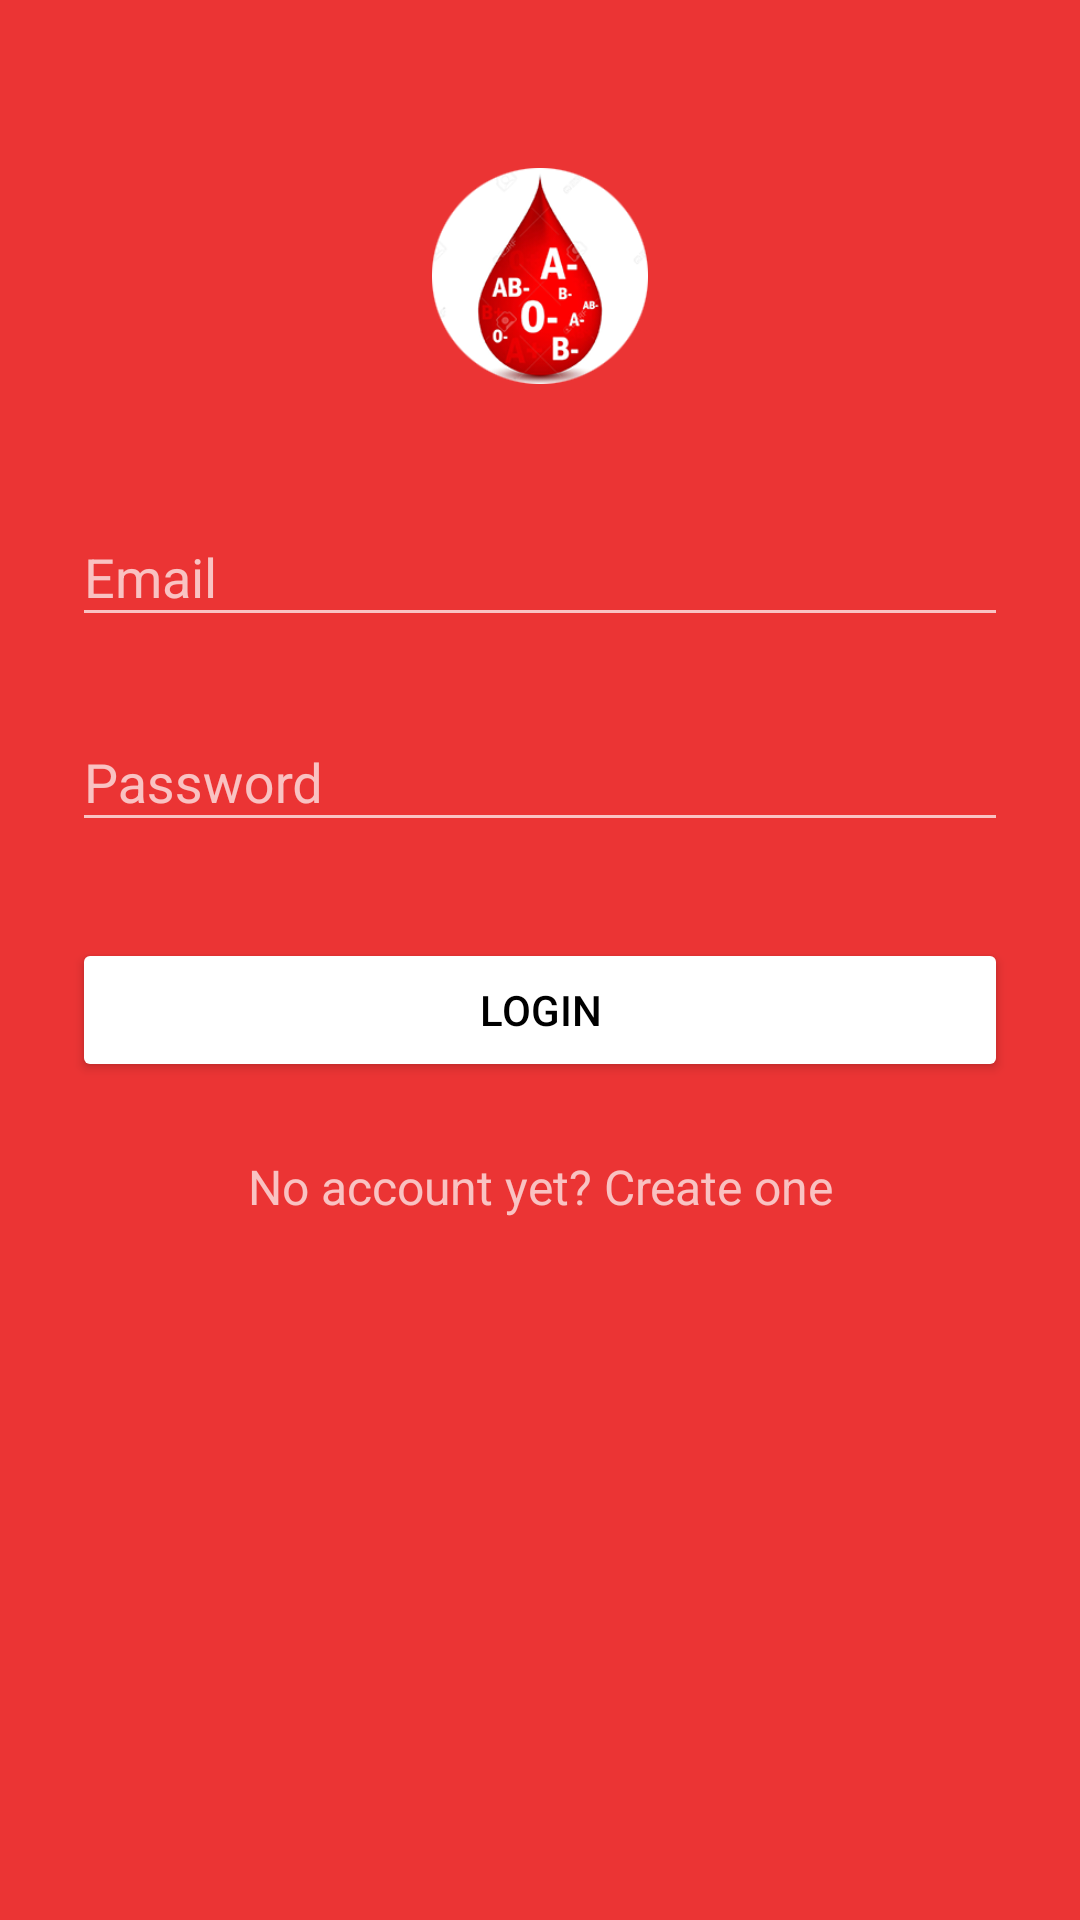

Icon click points for this 1080×1920 phone screenshot, format (x,y):
blood round: (540,276)
